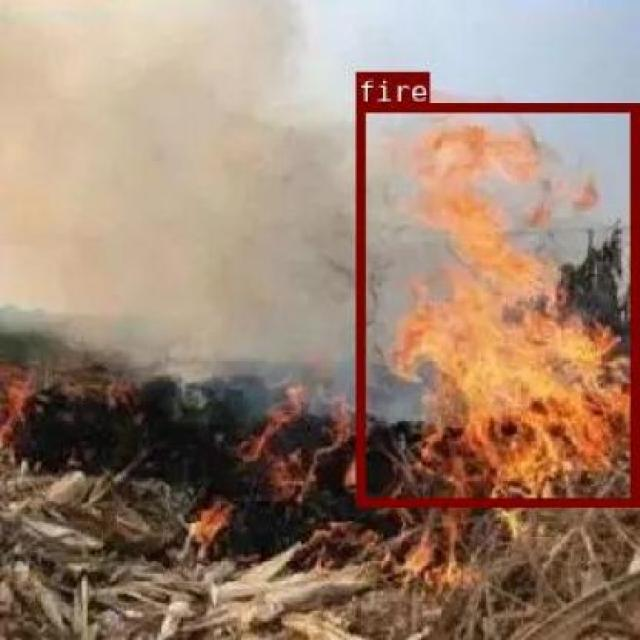Fire: (356, 102, 636, 504), (252, 384, 340, 502)
Smoke: (20, 24, 323, 354)
